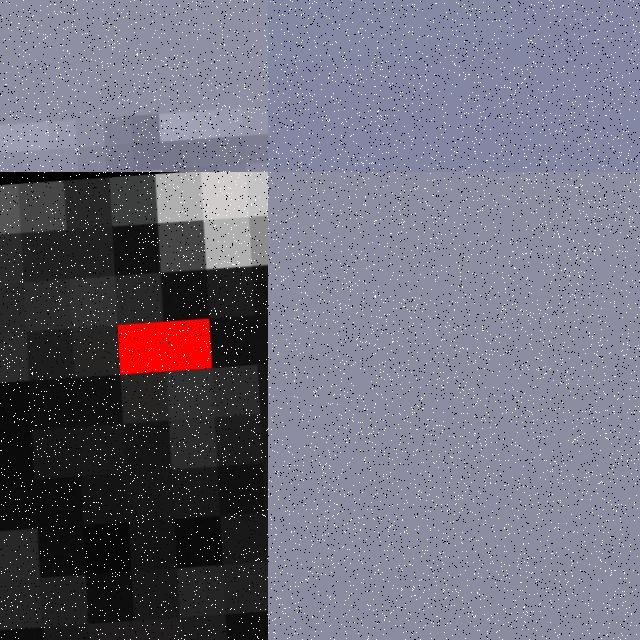0: (0, 0, 268, 172)
drone: (0, 172, 268, 640)
